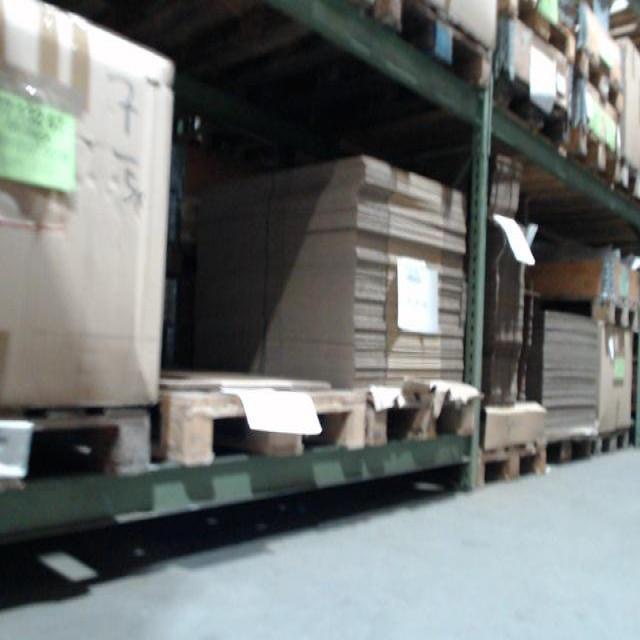pallet: (153, 365, 369, 466), (2, 404, 156, 495), (382, 3, 495, 93), (359, 374, 477, 449), (498, 74, 572, 169), (505, 1, 581, 71), (524, 287, 636, 329), (568, 111, 622, 195), (477, 436, 547, 495), (576, 41, 621, 114), (539, 425, 594, 479), (596, 423, 636, 462), (618, 151, 639, 202)
